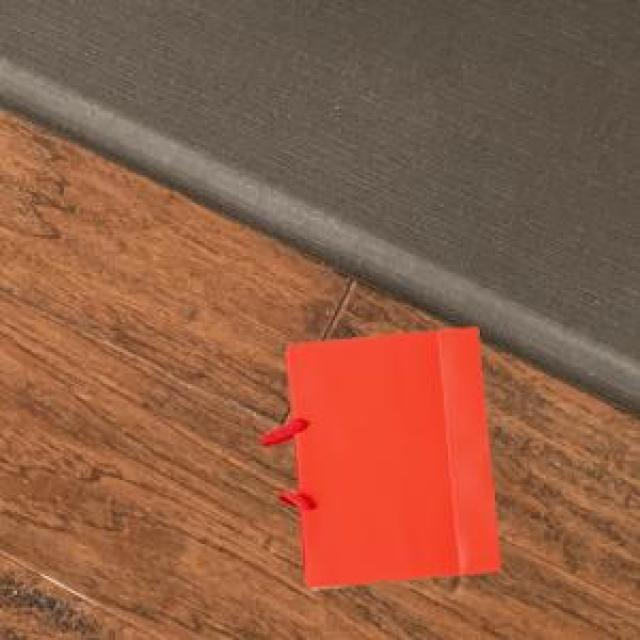paper: (256, 322, 497, 585)
